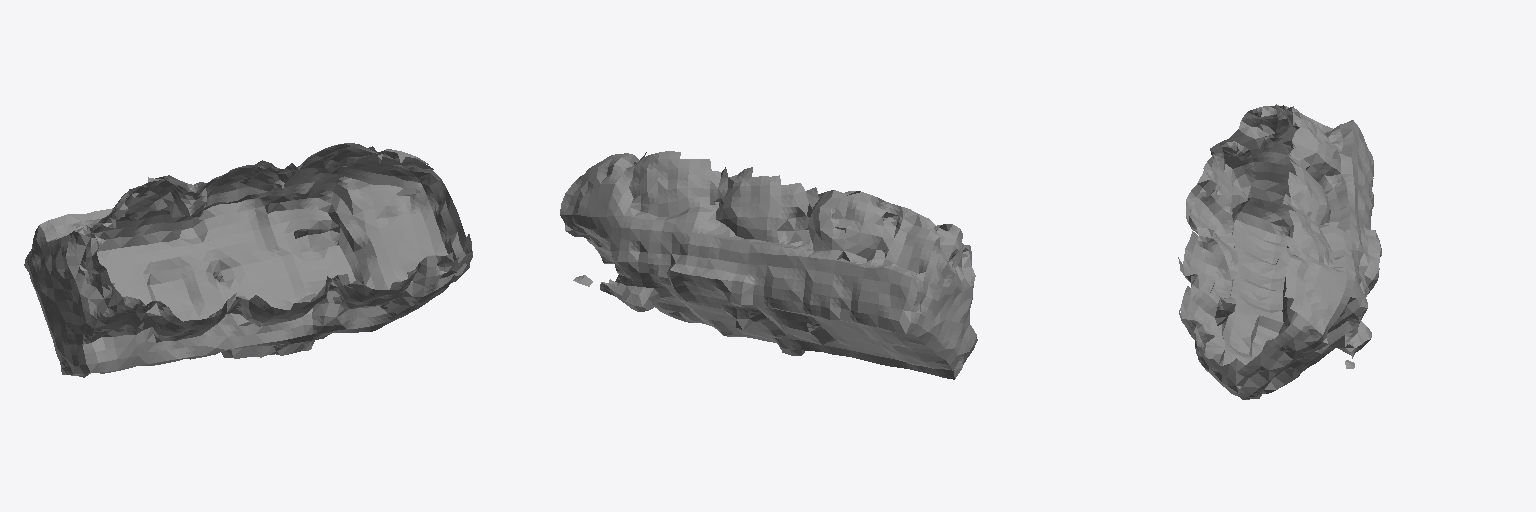
Rendered from TruckLowUnwrapped.obj.
3 renders of one model, left to right at view 1: azimuth 30°, elevation 25°; view 2: azimuth 150°, elevation 25°; view 3: azimuth 270°, elevation 25°, orthographic.
Parts seen in each view (by area): view 1: default; view 2: default; view 3: default.
Part boxes in pixels (left/top/right/bottom): default: left=24, top=143, right=472, bottom=377; default: left=560, top=151, right=977, bottom=379; default: left=1178, top=104, right=1381, bottom=399.
Size of the model in its own units: 1.45 by 0.6865 by 0.6579.